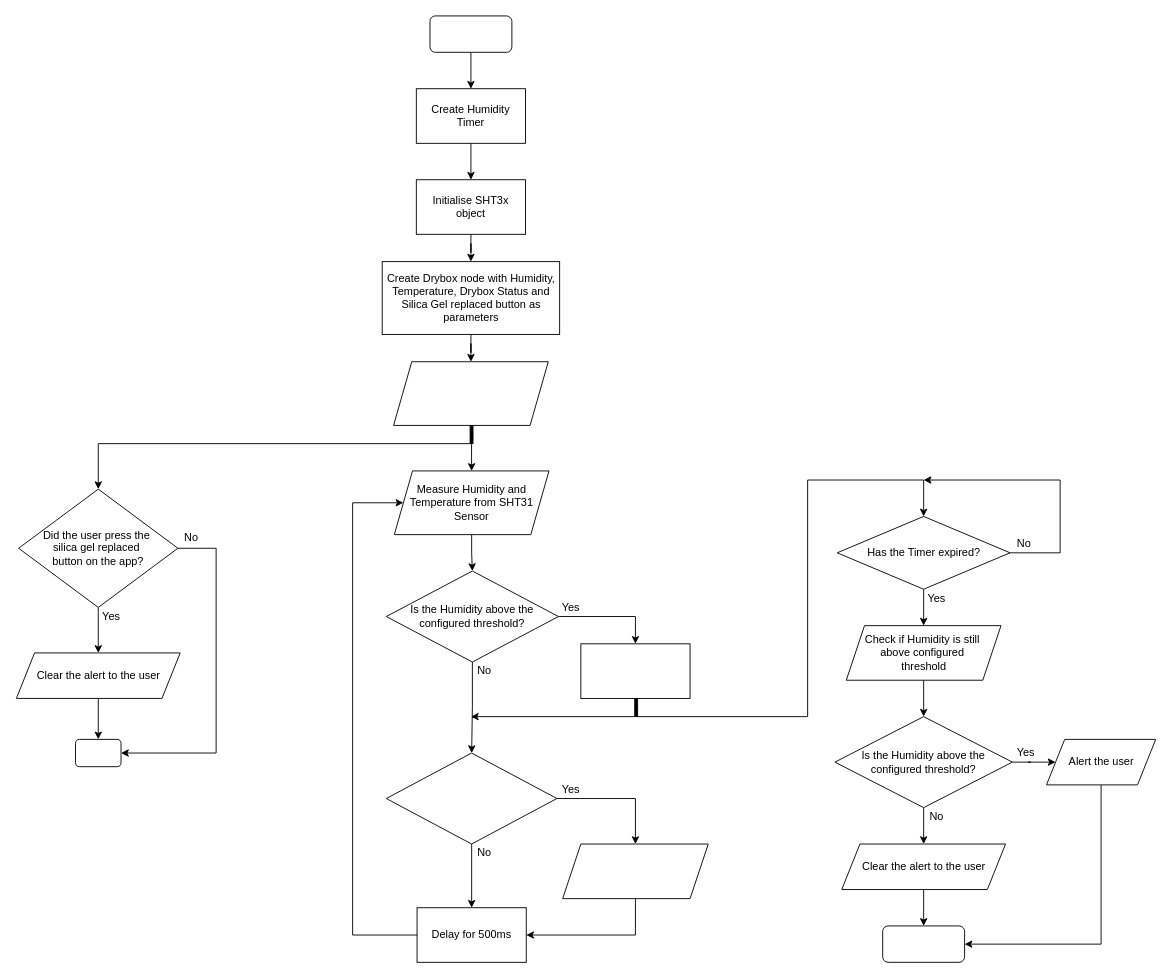
Image size: 1171x978. Some labels were removed from this diagram. Here are the shapes that lost their labels. From the top down, the centre of each, then its label:
At point (470, 33): "Start/Reset".
At point (470, 393): "Start WiFi Network and subscribe to node on the cloud".
At point (635, 670): "Start the Humidity Timer".
At point (98, 752): "End".
At point (471, 798): "Has the configured time interval passed?".
At point (635, 871): "Update Humidity and Temperature on Cloud".
At point (923, 943): "End Timer".
